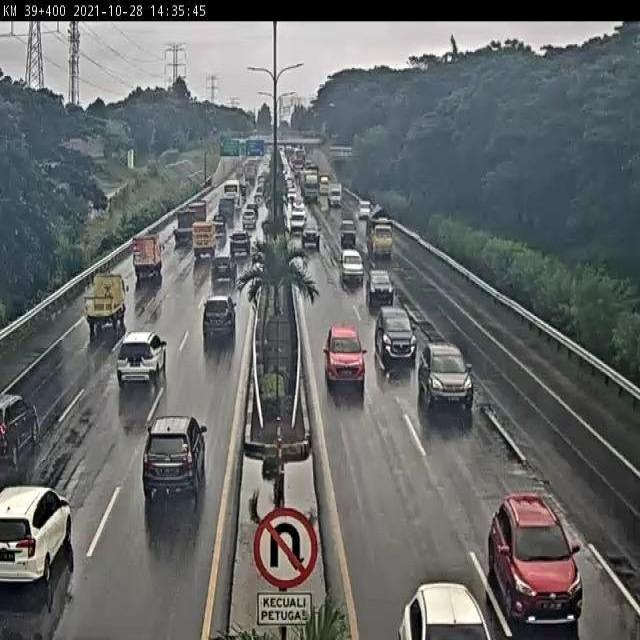car: (135, 400, 212, 515), (405, 521, 473, 640), (502, 493, 569, 603), (6, 481, 49, 584), (106, 329, 165, 399), (5, 389, 46, 460), (415, 329, 468, 383), (372, 292, 414, 347), (194, 310, 238, 358), (326, 317, 363, 371), (202, 272, 233, 307), (366, 202, 386, 250), (332, 237, 358, 272), (183, 189, 208, 223), (358, 254, 384, 286), (224, 238, 246, 270), (336, 208, 359, 237), (304, 212, 316, 245), (218, 196, 231, 224), (239, 216, 254, 239), (290, 205, 305, 227), (209, 218, 222, 242), (354, 195, 366, 212)
small truck: (88, 270, 128, 334), (125, 240, 161, 271), (184, 229, 209, 267), (326, 180, 341, 205)
